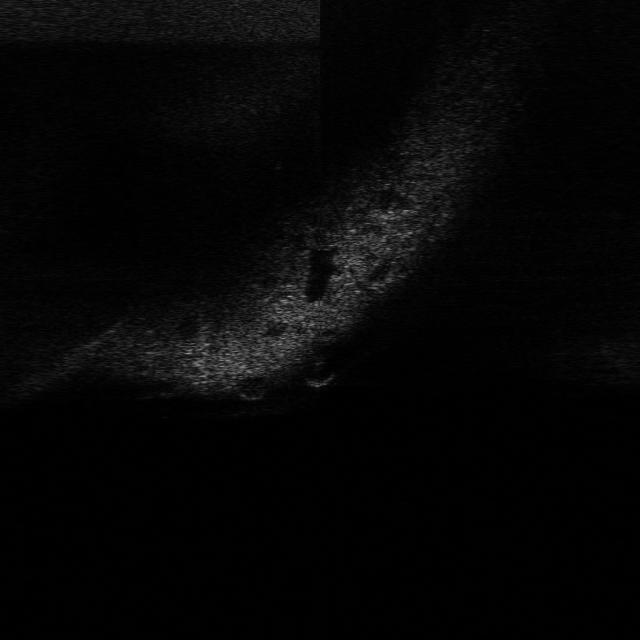ball: (298, 359, 339, 388)
